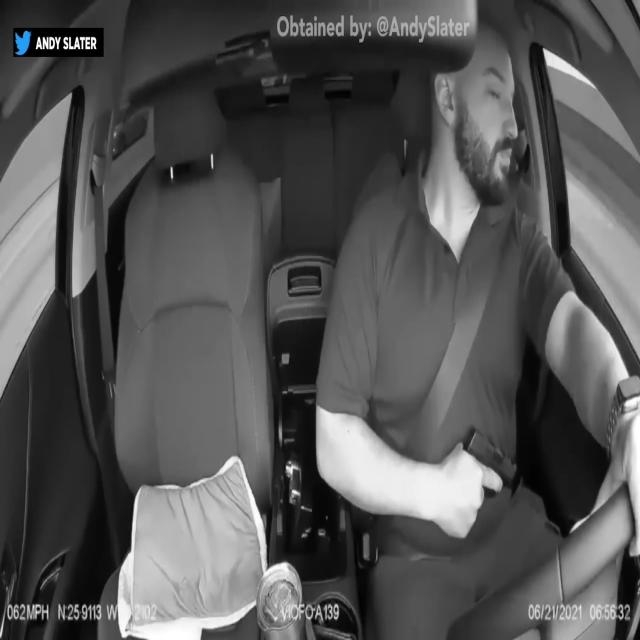senjata_api: (463, 424, 518, 497)
